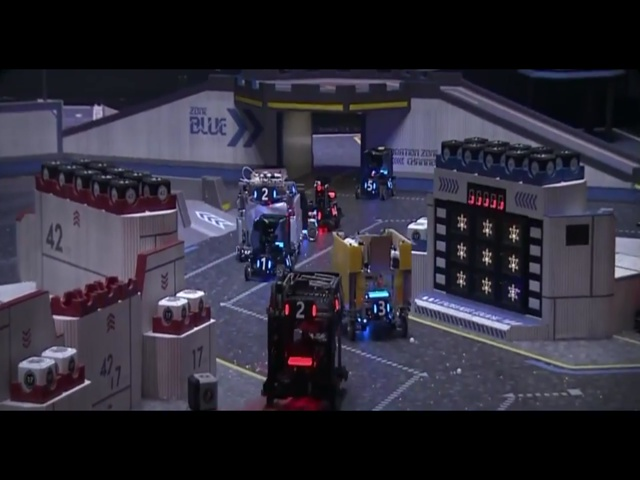plate: (278, 303, 325, 324), (244, 184, 283, 207), (367, 292, 395, 322), (251, 252, 277, 277), (325, 190, 341, 221), (360, 177, 378, 198), (330, 288, 341, 314)
